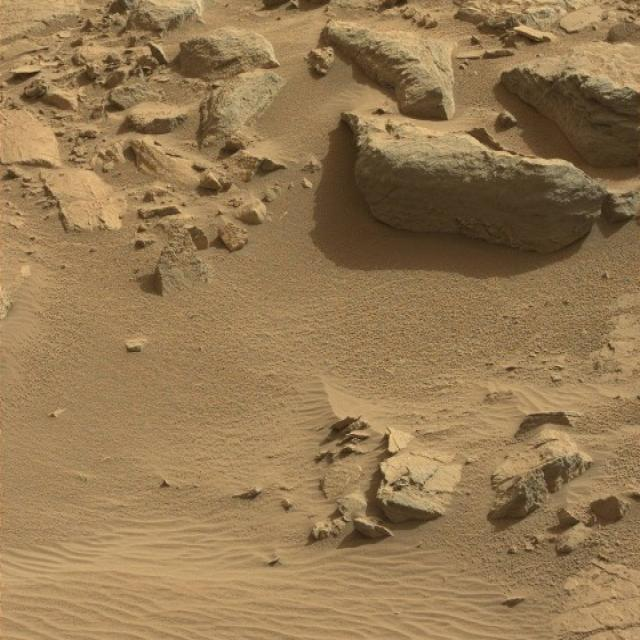mars-rocks: (489, 413, 593, 522), (377, 448, 463, 524)
